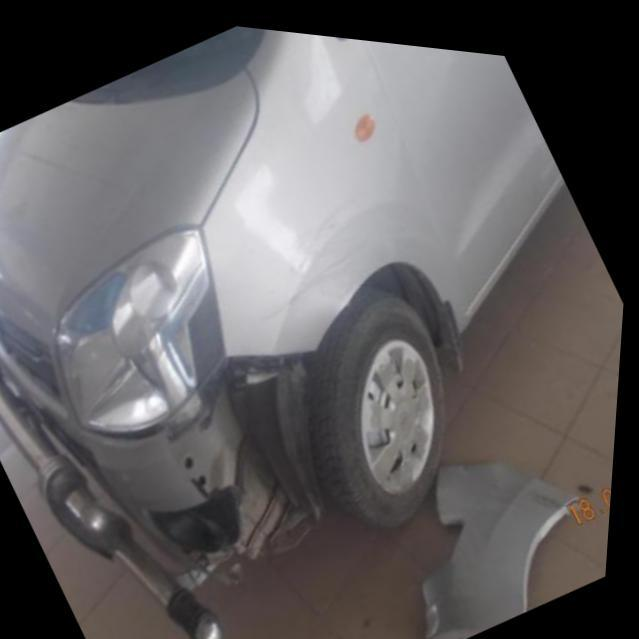no part: (168, 334, 324, 577)
